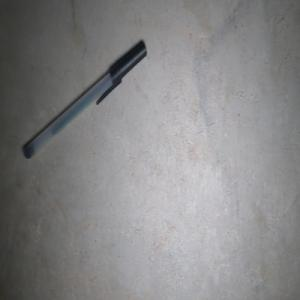Pen: (22, 40, 146, 160)
